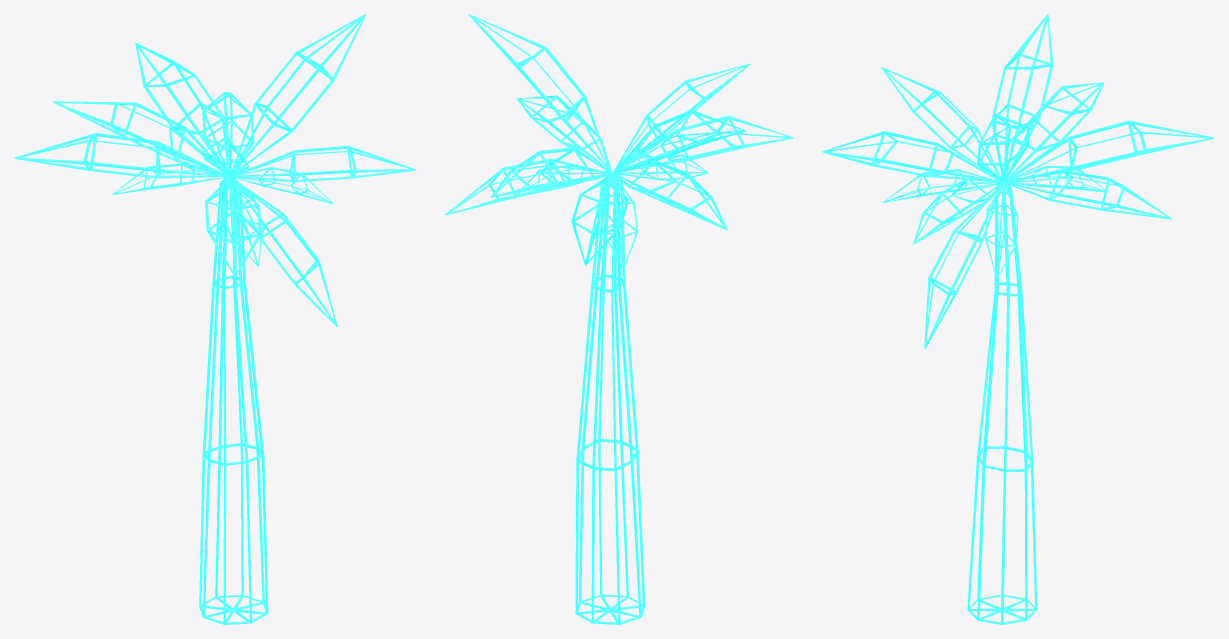
File: Evn_Plam_tree_03.fbx
The picture shows the model from 3 angles, left to right: view 1: azimuth 30°, elevation 25°; view 2: azimuth 150°, elevation 25°; view 3: azimuth 270°, elevation 25°; orthographic projection. The views are drawn at different scales.
Visible parts, largest first — view 1: Evn_Plam_tree_03.001; view 2: Evn_Plam_tree_03.001; view 3: Evn_Plam_tree_03.001.
Part boxes in pixels (left/top/right/bottom): Evn_Plam_tree_03.001: left=14, top=14, right=416, bottom=624; Evn_Plam_tree_03.001: left=445, top=14, right=793, bottom=624; Evn_Plam_tree_03.001: left=822, top=14, right=1214, bottom=624.
Bounding box in the file's own units: 8.93 × 15.66 × 10.1.
